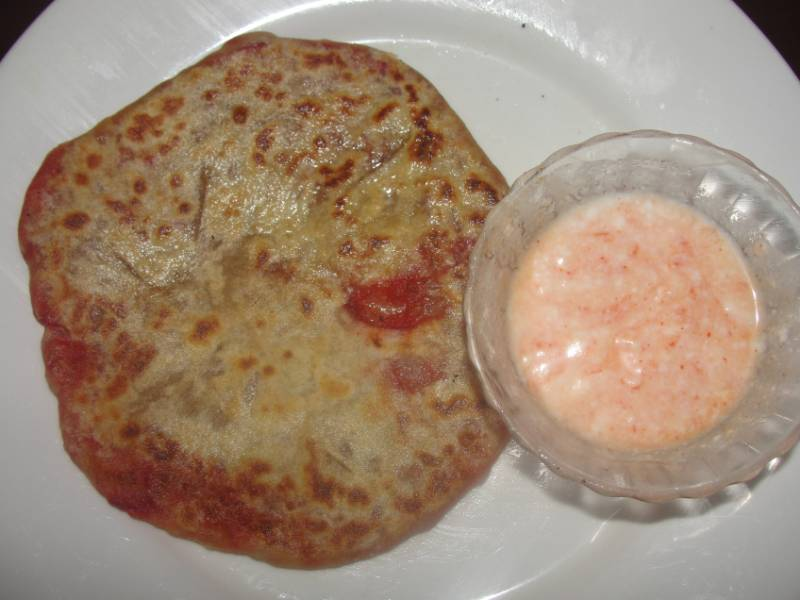aloo_paratha: (23, 34, 509, 564)
